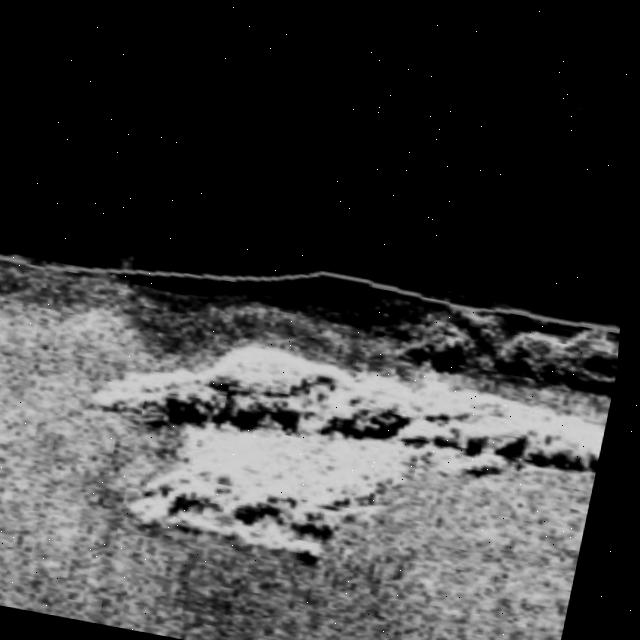bedrock group: (66, 308, 619, 605)
